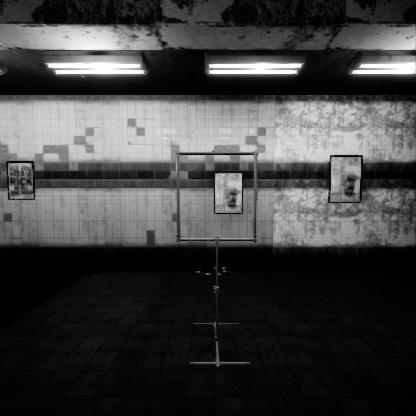gate: (176, 173, 265, 265)
